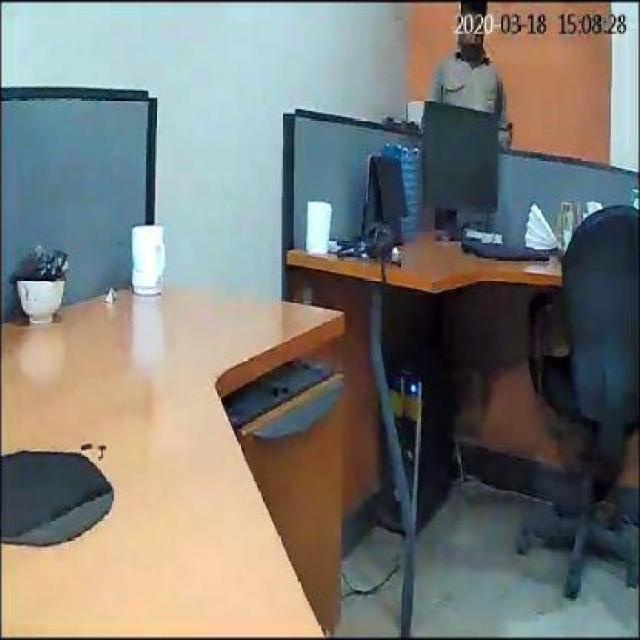spill: (2, 447, 112, 545)
